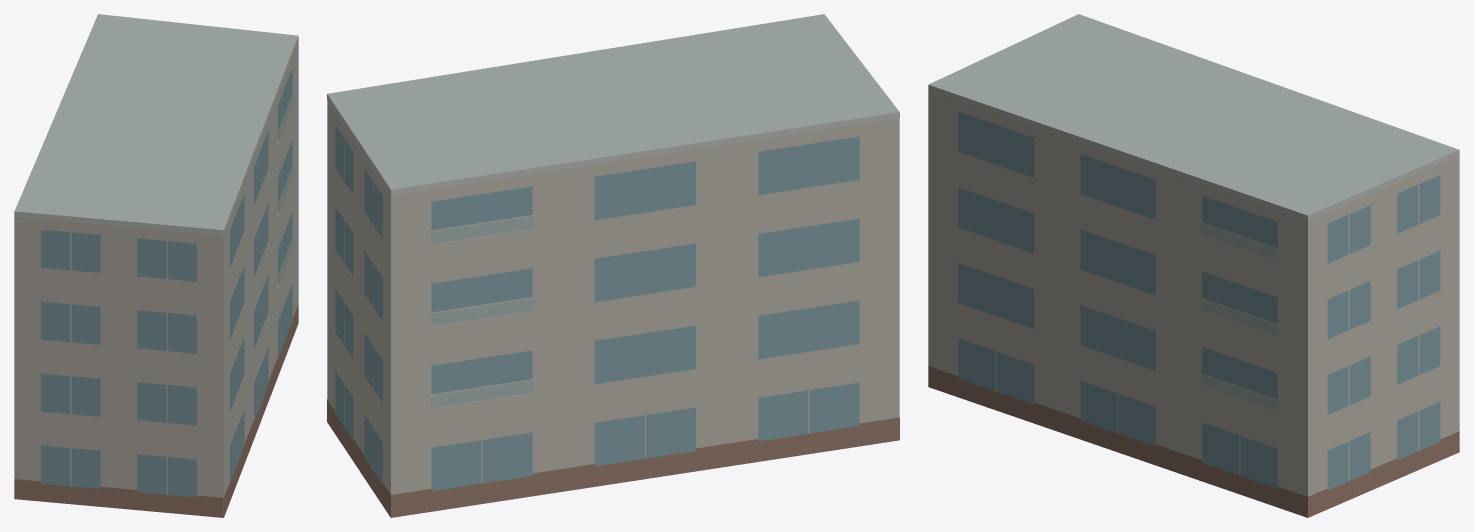
File: survey-upis-32622109.glb
3 renders of one model, left to right at view 1: azimuth 30°, elevation 25°; view 2: azimuth 150°, elevation 25°; view 3: azimuth 270°, elevation 25°, orthographic. The views are drawn at different scales.
Parts seen in each view (by area): view 1: survey-upis-32622109.tmp; view 2: survey-upis-32622109.tmp; view 3: survey-upis-32622109.tmp.
Boxes of the visible parts, left/top/right/bottom form: survey-upis-32622109.tmp: left=14, top=14, right=298, bottom=517; survey-upis-32622109.tmp: left=327, top=14, right=899, bottom=517; survey-upis-32622109.tmp: left=928, top=14, right=1459, bottom=517.
Size of the model in its own units: 18.45 by 12.9 by 20.56.
